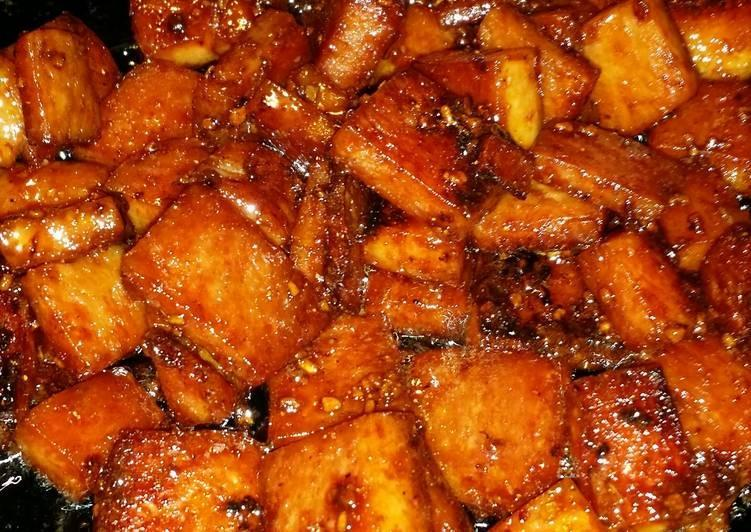AlooMasala: (4, 0, 751, 532)
